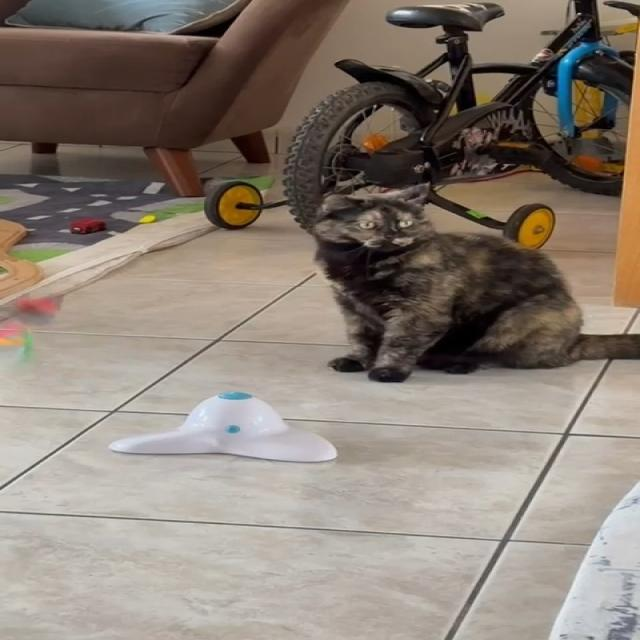authorized: (309, 182, 639, 382)
